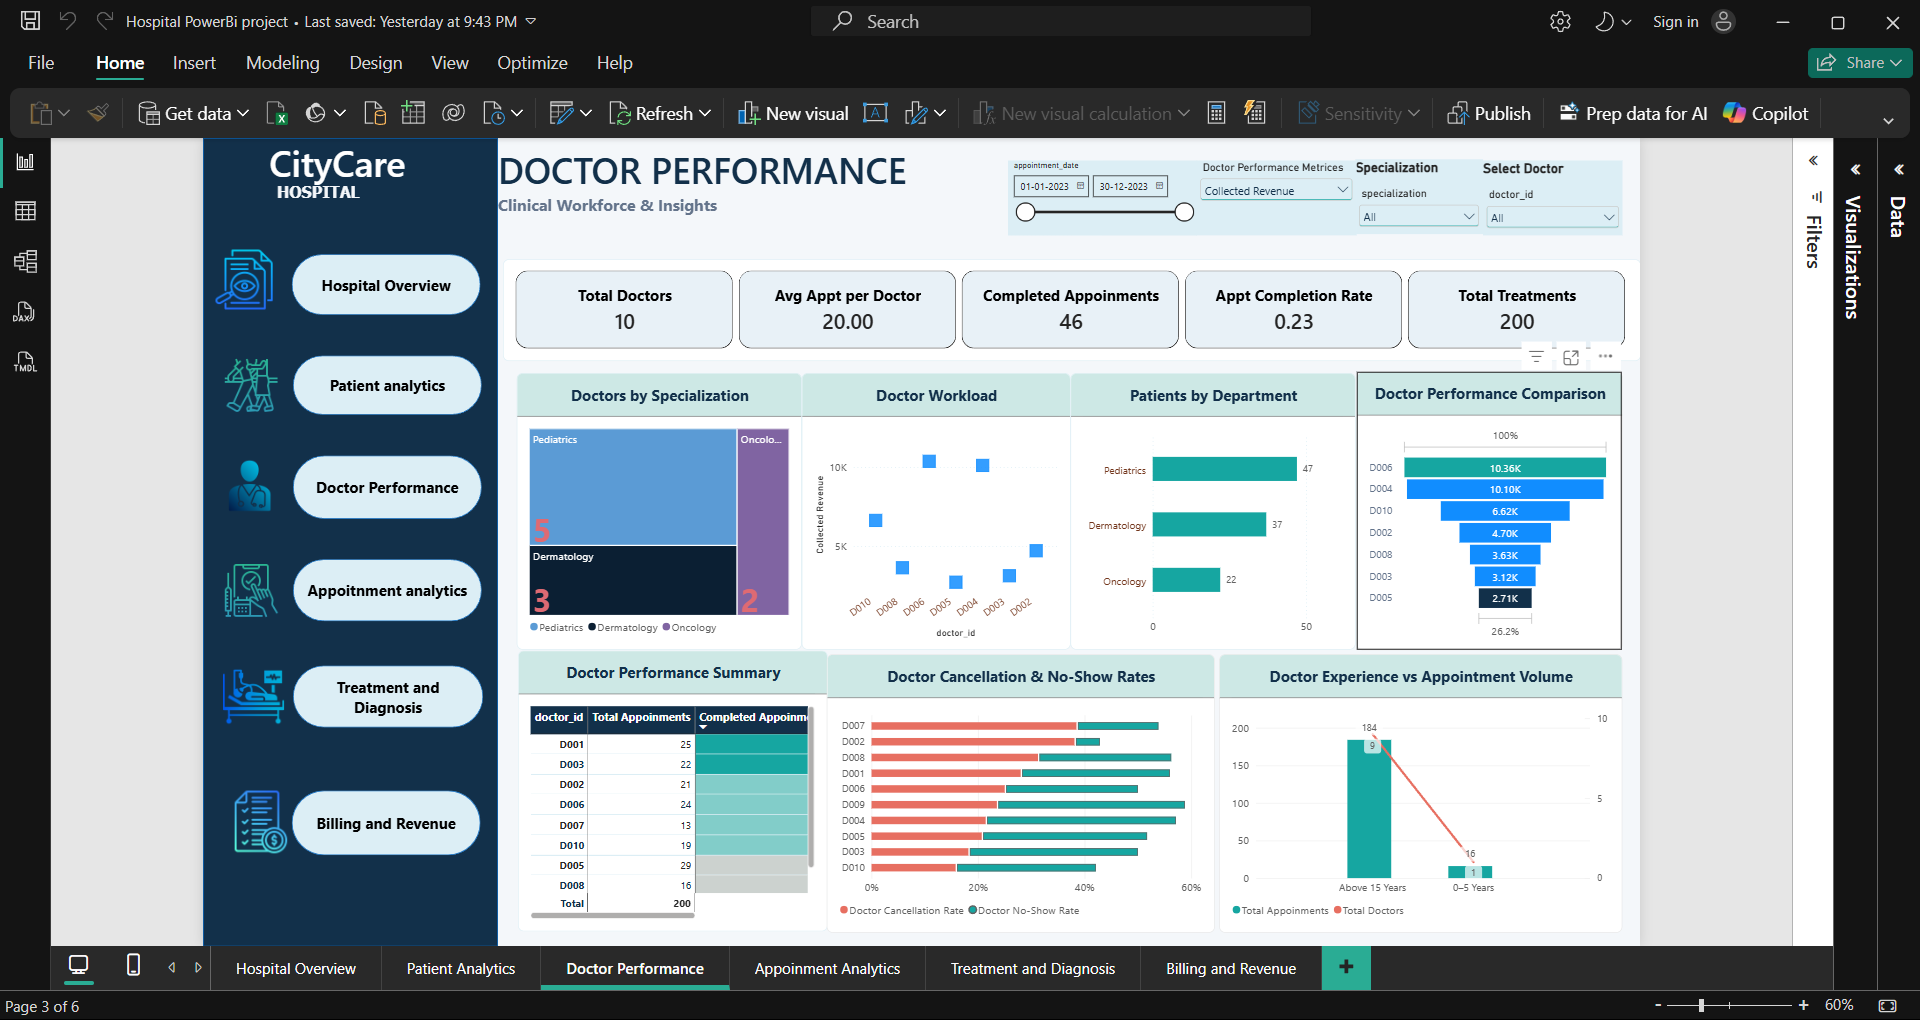

Layout of this report page (visuals, bound fields, positions):
{"tool":"powerbi","page":{"name":"Doctor Performance","canvas":[1920,1080],"ordinal":2},"visuals":[{"type":"shape","box":[0,0,394,1080],"z":0},{"type":"textbox","box":[14.3,0,328.6,91.8],"z":1000},{"type":"textbox","box":[393.3,10,585,118.3],"z":2000},{"type":"textbox","box":[79.6,59.2,263.3,32.7],"z":3000},{"type":"slicer","title":"Specialization","fields":{"Values":["doctors.specialization"]},"box":[1540,28.3,170,100],"z":4000},{"type":"shape","box":[117.8,154.6,252.1,81],"z":5000},{"type":"shape","box":[119.6,290.8,252.1,79.1],"z":6000},{"type":"shape","box":[119.6,423.3,252.1,84.7],"z":7000},{"type":"shape","box":[119.6,563.2,252.1,82.8],"z":8000},{"type":"shape","box":[119.6,704.9,254,82.8],"z":9000},{"type":"shape","box":[117.8,872.4,252.1,86.5],"z":10000},{"type":"image","box":[11,149.1,86.5,81],"z":11000},{"type":"image","box":[26.5,289.8,75.5,79.6],"z":12000},{"type":"image","box":[26.5,422.4,71.4,83.7],"z":13000},{"type":"image","box":[26.5,563.3,75.5,83.7],"z":14000},{"type":"image","box":[26.5,704.1,81.6,83.7],"z":15000},{"type":"image","box":[32.7,871.4,87.8,83.7],"z":16000},{"type":"cardVisual","fields":{"Data":["doctors.Total Doctors","appointments.Average Appointments per Doctor","appointments.Completed Appoinments","appointments.Appoinment Completion Rate","treatments.Total Treatments"]},"box":[400,162,1520,136],"z":17000},{"type":"treemap","title":"Doctors by Specialization","fields":{"Group":["doctors.specialization"],"Values":["Count(doctors.doctor_id)"]},"box":[419.6,314.7,381,369.9],"z":18000},{"type":"scatterChart","title":"Doctor Workload","fields":{"X":["doctors.doctor_id"],"Y":["billing.Collected Revenue"]},"box":[800.6,314.7,358.9,369.9],"z":19000},{"type":"pivotTable","title":"Doctor Performance Summary","fields":{"Rows":["doctors.doctor_id"],"Values":["appointments.Total Appoinments","appointments.Completed Appoinments","appointments.Appt Completion Rate"]},"box":[420,685,413.3,375],"z":20000},{"type":"funnel","title":"Doctor Performance Comparison","fields":{"Category":["doctors.doctor_id"],"Y":["billing.Collected Revenue"]},"box":[1540.5,312.9,355.2,371.8],"z":21000},{"type":"slicer","fields":{"Values":["Doctor Performance Metrices.Doctor Performance Metrices"]},"box":[1326.7,30,213.3,100],"z":22000},{"type":"slicer","title":"Select Doctor","fields":{"Values":["doctors.doctor_id"]},"box":[1710,30,186.7,100],"z":23000},{"type":"slicer","fields":{"Values":["appointments.appointment_date"]},"box":[1075,30,251.7,100],"z":24000},{"type":"clusteredBarChart","title":"Patients by Department","fields":{"Category":["doctors.specialization"],"Y":["patients.Patients by Department"]},"box":[1159.5,314.7,381,369.9],"z":25000},{"type":"lineClusteredColumnComboChart","title":"Doctor Experience vs Appointment Volume","fields":{"Category":["doctors.Experience Group"],"Y":["appointments.Total Appoinments"],"Y2":["doctors.Total Doctors"]},"box":[1358,690,538,372],"z":26000},{"type":"barChart","title":"Doctor Cancellation & No-Show Rates","fields":{"Category":["doctors.doctor_id"],"Y":["doctors.Doctor Cancellation Rate","Doctor Performance Metrices.Doctor No-Show Rate"]},"box":[834,690,518,372],"z":27000}]}

Visuals, with their boxes on the page's 1920x1080 design canvas (x1, y1, x2, y2). These are canvas units, not pixel positions in the 1920x1020 screenshot, which may show the page scaled, cropped or inside an application window:
shape: detection(0, 0, 394, 1080)
textbox: detection(14, 0, 343, 92)
textbox: detection(393, 10, 978, 128)
textbox: detection(80, 59, 343, 92)
"Specialization" slicer: detection(1540, 28, 1710, 128)
shape: detection(118, 155, 370, 236)
shape: detection(120, 291, 372, 370)
shape: detection(120, 423, 372, 508)
shape: detection(120, 563, 372, 646)
shape: detection(120, 705, 374, 788)
shape: detection(118, 872, 370, 959)
image: detection(11, 149, 98, 230)
image: detection(26, 290, 102, 369)
image: detection(26, 422, 98, 506)
image: detection(26, 563, 102, 647)
image: detection(26, 704, 108, 788)
image: detection(33, 871, 120, 955)
cardVisual - doctors.Total Doctors x appointments.Average Appointments per Doctor: detection(400, 162, 1920, 298)
"Doctors by Specialization" treemap: detection(420, 315, 801, 685)
"Doctor Workload" scatterChart: detection(801, 315, 1160, 685)
"Doctor Performance Summary" pivotTable: detection(420, 685, 833, 1060)
"Doctor Performance Comparison" funnel: detection(1540, 313, 1896, 685)
slicer - Doctor Performance Metrices.Doctor Performance Metrices: detection(1327, 30, 1540, 130)
"Select Doctor" slicer: detection(1710, 30, 1897, 130)
slicer - appointments.appointment_date: detection(1075, 30, 1327, 130)
"Patients by Department" clusteredBarChart: detection(1160, 315, 1540, 685)
"Doctor Experience vs Appointment Volume" lineClusteredColumnComboChart: detection(1358, 690, 1896, 1062)
"Doctor Cancellation & No-Show Rates" barChart: detection(834, 690, 1352, 1062)
